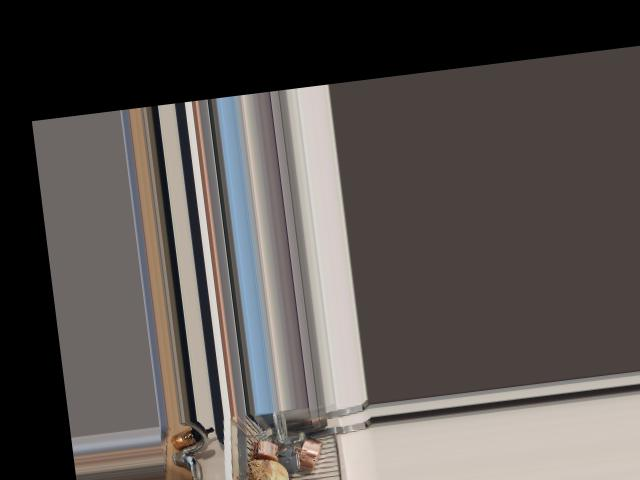onion: (242, 458, 294, 480)
